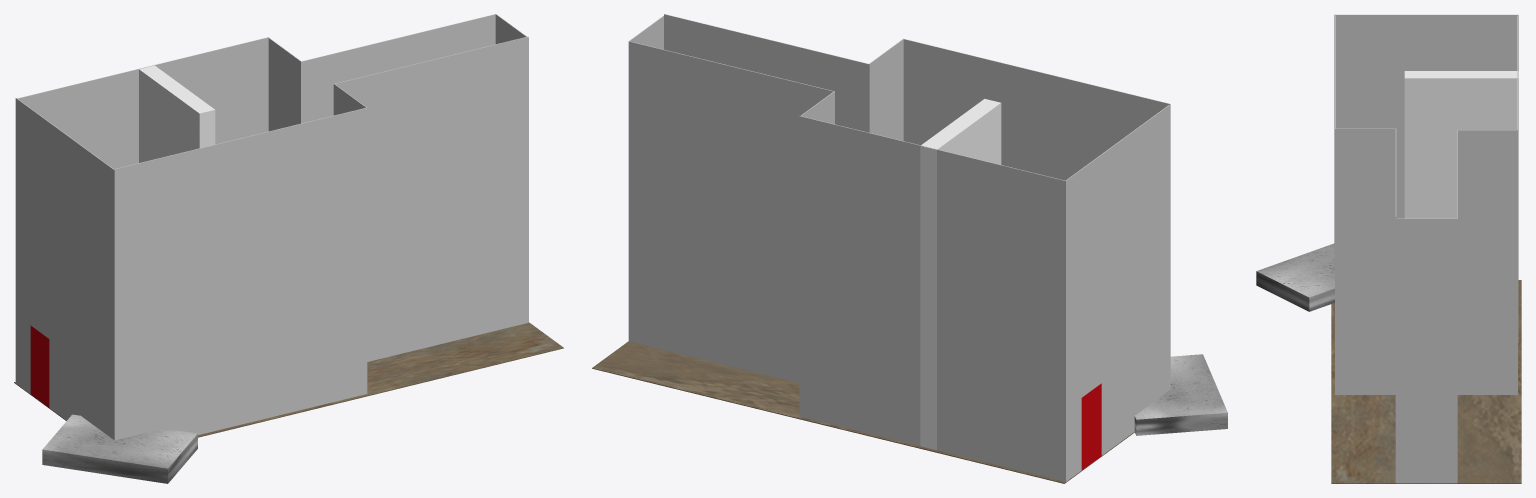
The model's file is indoor.gltf.
3 views of the same model, side by side, from view 1: azimuth 30°, elevation 25°; view 2: azimuth 150°, elevation 25°; view 3: azimuth 270°, elevation 25° (orthographic). The views are drawn at different scales.
Visible parts, largest first — view 1: Cube.014, Cube.009, Cube.003, Cube.001, Cube.010, Cube, Cube.002, Cube.007, Cube.011, Cube.006, Cube.005; view 2: Cube.001, Cube.010, Cube.003, Cube.014, Cube.009, Cube.007, Cube, Cube.002, Cube.012, Cube.006, Cube.005; view 3: Cube.012, Cube.005, Cube.011, Cube.003, Cube, Cube.007, Cube.002, Cube.009, Cube.014, Cube.001, Cube.010.
Boxes of the visible parts, x1,y1,x2,y2 form: Cube.014: (114,107,367,439); Cube.009: (333,36,528,361); Cube.003: (15,98,115,440); Cube.001: (16,37,269,383); Cube.010: (301,14,495,123); Cube: (14,322,563,437); Cube.002: (42,414,197,483); Cube.007: (139,65,215,162); Cube.011: (268,38,301,131); Cube.006: (30,325,49,407); Cube.005: (495,14,528,321); Cube.001: (799,116,1066,481); Cube.010: (628,41,833,382); Cube.003: (1065,104,1170,481); Cube.014: (903,38,1170,389); Cube.009: (664,14,869,132); Cube.007: (920,99,1001,450); Cube: (592,341,1134,483); Cube.002: (1134,354,1227,435); Cube.012: (869,39,903,140); Cube.006: (1081,383,1101,469); Cube.005: (628,16,663,340); Cube.012: (1335,128,1396,394); Cube.005: (1396,218,1456,483); Cube.011: (1457,130,1517,394); Cube.003: (1334,14,1518,279); Cube: (1331,280,1521,483); Cube.007: (1404,71,1518,342); Cube.002: (1256,243,1334,311); Cube.009: (1395,129,1396,482); Cube.014: (1335,14,1335,394); Cube.001: (1517,15,1517,394); Cube.010: (1457,130,1457,482).
Bounding box in the file's own units: 949 × 509 × 459.
Materials: 26 (22 with a texture image).
